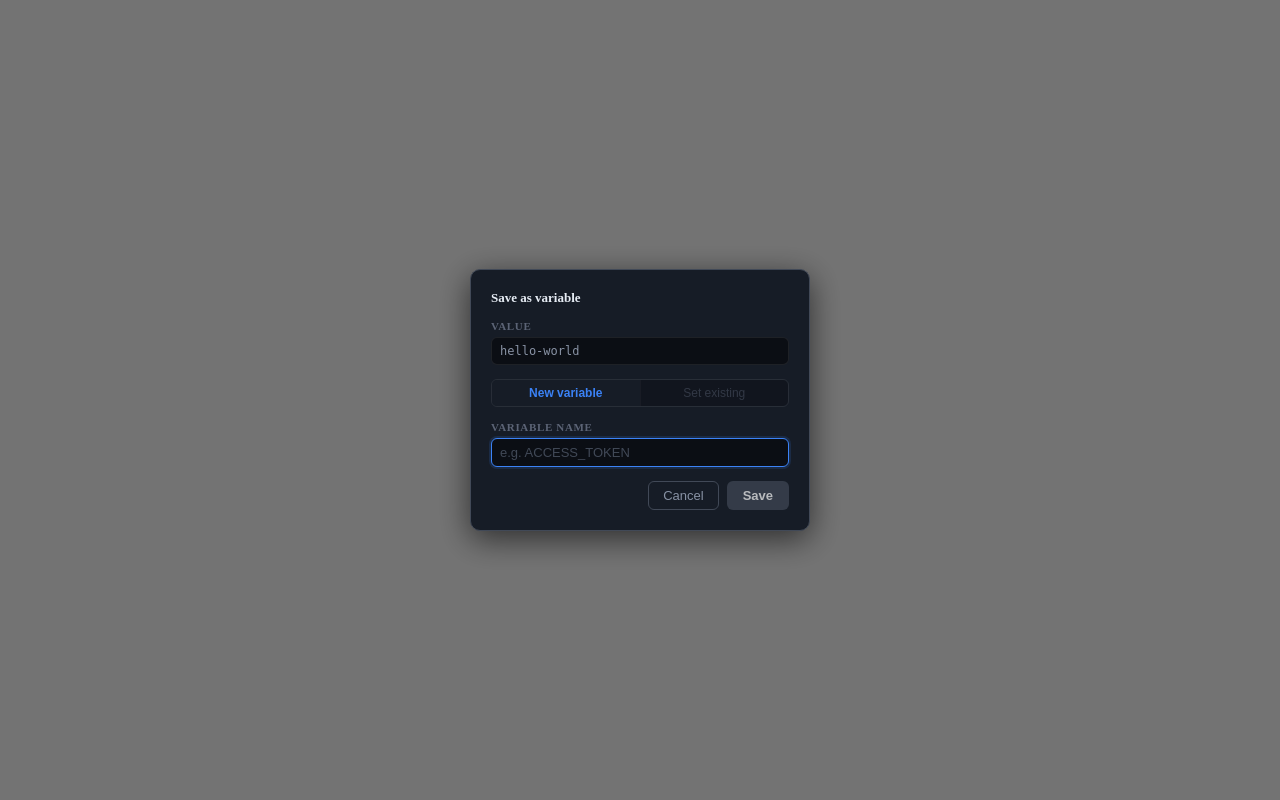
Test: SaveVarDialog — new variable mode › Save button becomes enabled after typing a name
Type "MY_VAR" into the field labelled "Variable name" at (640, 452), box left=491, top=438, right=789, bottom=467
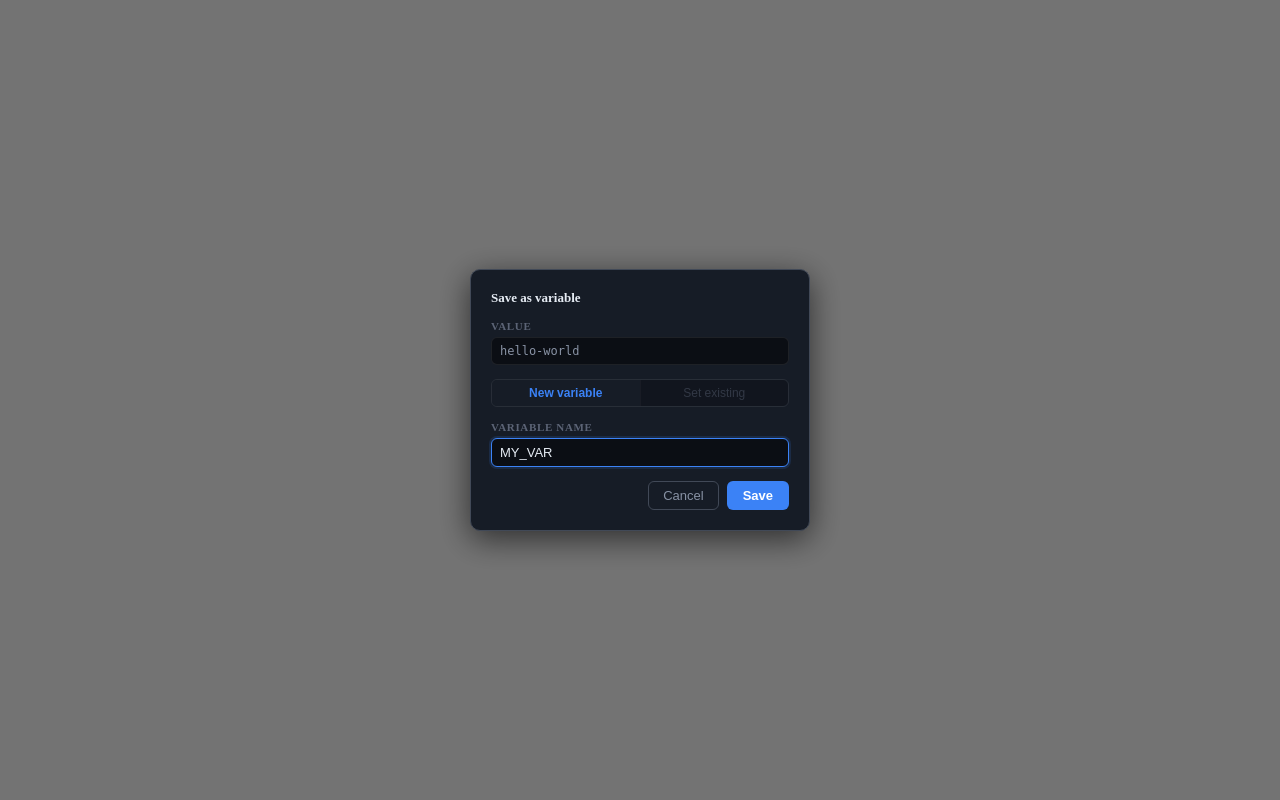
Expected: the button "Save" is enabled, left=727, top=481, right=789, bottom=510
